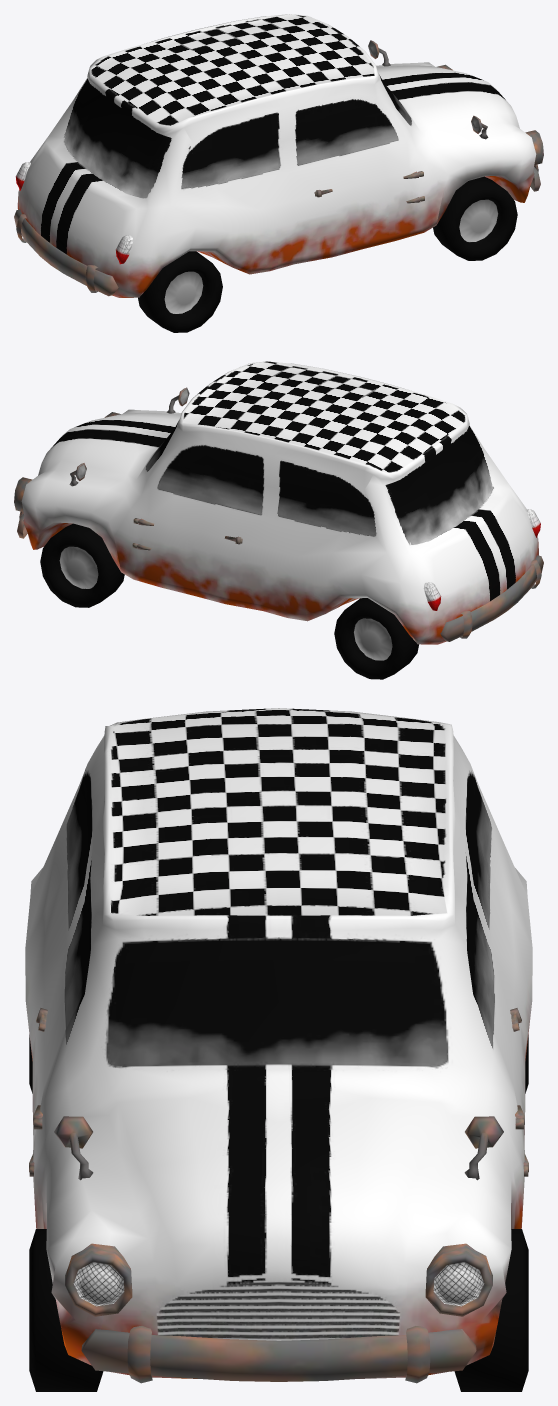
Rendered from carwhite.glb.
The picture shows the model from 3 angles, top to bottom: view 1: azimuth 30°, elevation 25°; view 2: azimuth 150°, elevation 25°; view 3: azimuth 270°, elevation 25°; orthographic projection. The views are drawn at different scales.
Visible parts, largest first — view 1: carwhite; view 2: carwhite; view 3: carwhite.
Part boxes in pixels (x1,y1,x2,y2): carwhite: (14,14,543,332); carwhite: (14,361,543,679); carwhite: (25,708,532,1391).
Bounding box in the file's own units: 8.13 × 3.46 × 3.93.
1 material, 1 textured.
